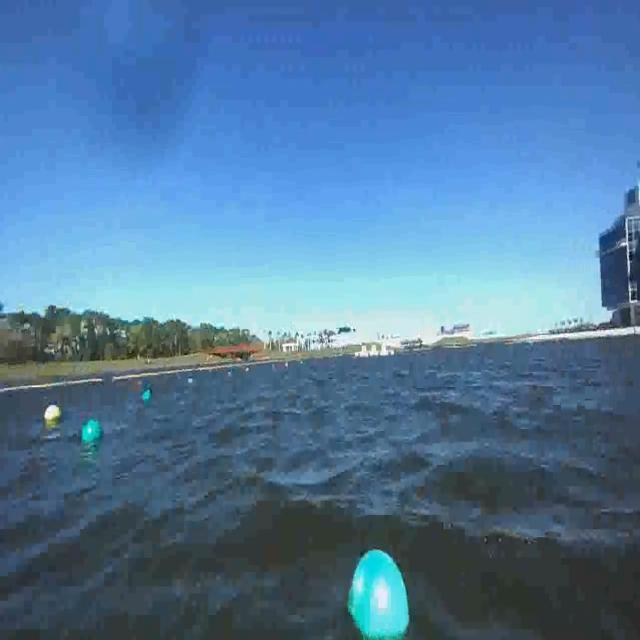green-buoy: (344, 547, 410, 639), (81, 419, 103, 444), (142, 390, 150, 402)
yellow-buoy: (44, 407, 62, 424)
